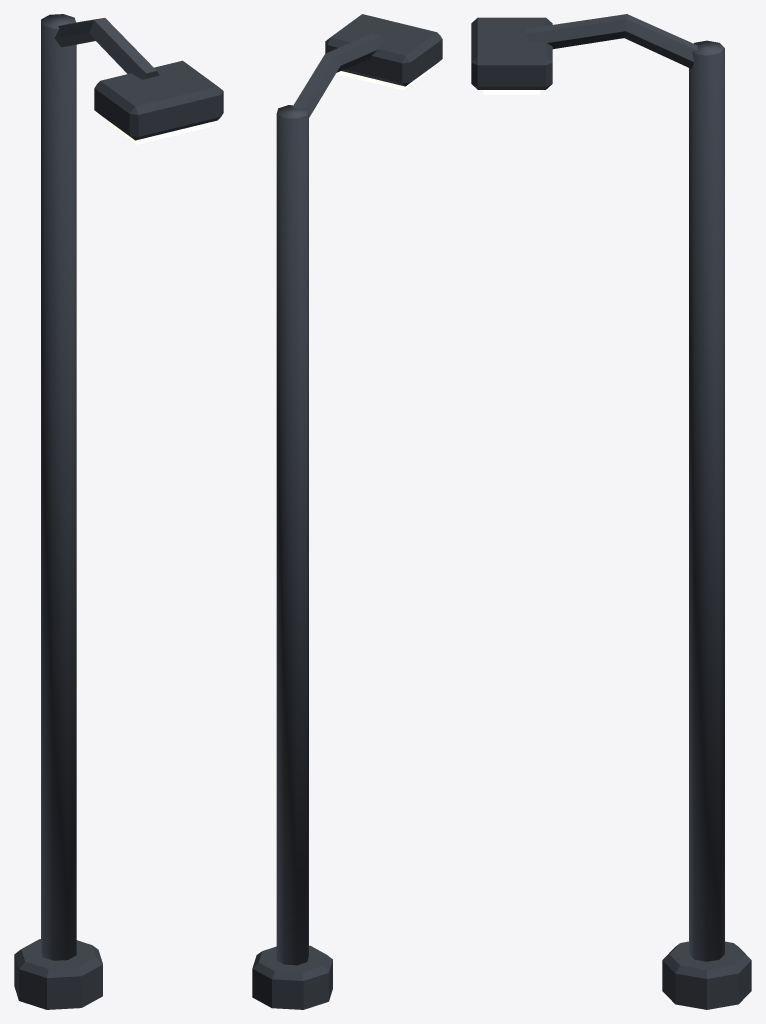
The model's file is LampPost.glb.
3 views of the same model, side by side, from view 1: azimuth 30°, elevation 25°; view 2: azimuth 150°, elevation 25°; view 3: azimuth 270°, elevation 25° (orthographic). The views are drawn at different scales.
Visible parts, largest first — view 1: LampPost, LampPost_Glow_lamp; view 2: LampPost; view 3: LampPost.
Part boxes in pixels (left/top/right/bottom): LampPost: left=14, top=14, right=223, bottom=1009; LampPost_Glow_lamp: left=108, top=121, right=209, bottom=144; LampPost: left=252, top=14, right=442, bottom=1009; LampPost: left=471, top=14, right=751, bottom=1009.
Bounding box in the file's own units: 1.3 × 13.23 × 3.45.
Materials: 2 (1 with a texture image).
